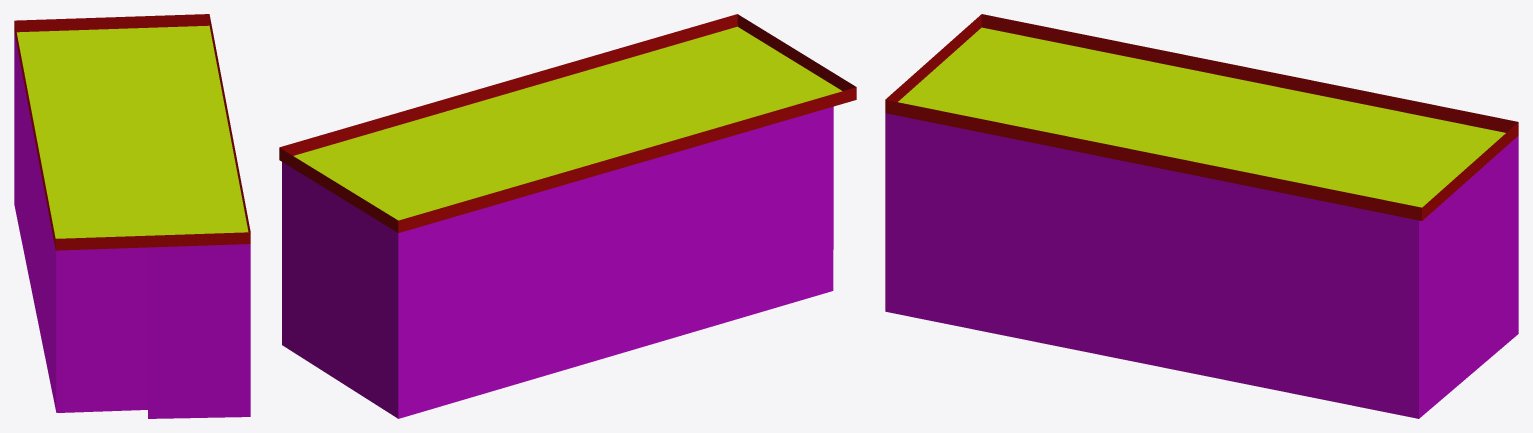
Rendered from rmc_110.glb.
3 renders of one model, left to right at view 1: azimuth 30°, elevation 25°; view 2: azimuth 150°, elevation 25°; view 3: azimuth 270°, elevation 25°, orthographic. The views are drawn at different scales.
Visible parts, largest first — view 1: rmc_110; view 2: rmc_110; view 3: rmc_110.
Part boxes in pixels (x1,y1,x2,y2): rmc_110: (14, 14, 250, 418); rmc_110: (279, 14, 856, 418); rmc_110: (885, 14, 1518, 418).
Bounding box in the file's own units: 10.77 × 5.49 × 14.88.
